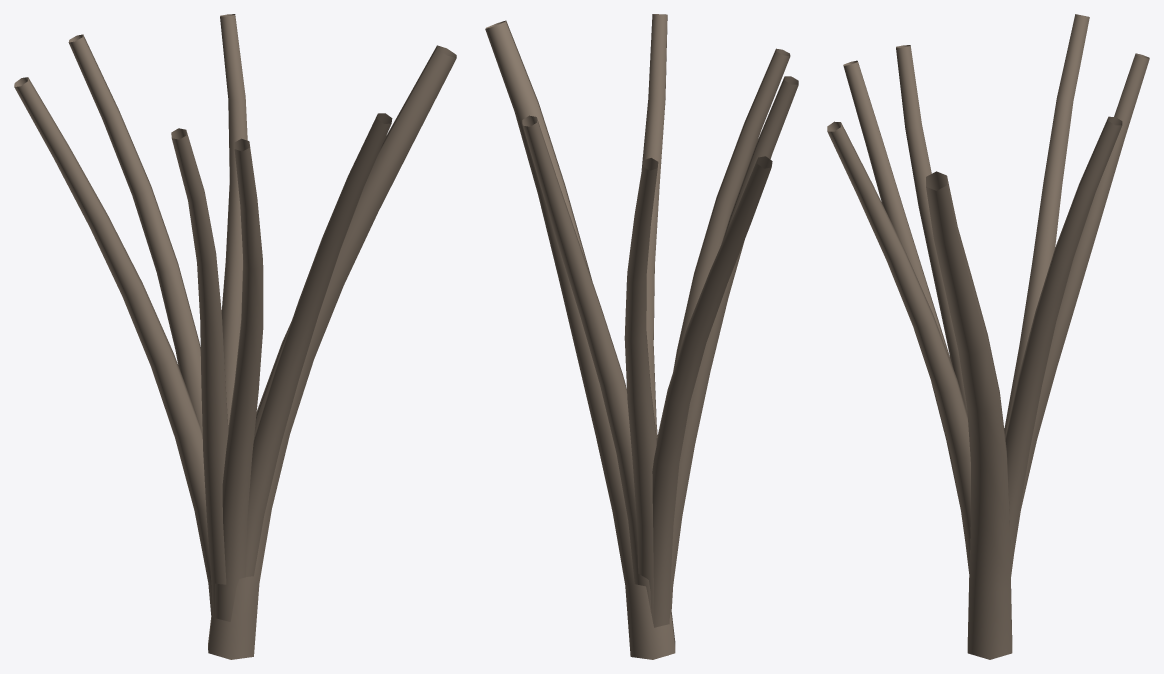
Rendered from RootCrown.fbx.
The picture shows the model from 3 angles, left to right: view 1: azimuth 30°, elevation 25°; view 2: azimuth 150°, elevation 25°; view 3: azimuth 270°, elevation 25°; orthographic projection. The views are drawn at different scales.
Visible parts, largest first — view 1: RootCrown; view 2: RootCrown; view 3: RootCrown.
Part boxes in pixels (bbox=[...]): RootCrown: bbox=[14, 14, 456, 659]; RootCrown: bbox=[485, 14, 798, 659]; RootCrown: bbox=[827, 14, 1149, 659].
Size of the model in its own units: 0.6707 by 1.01 by 0.5269.
